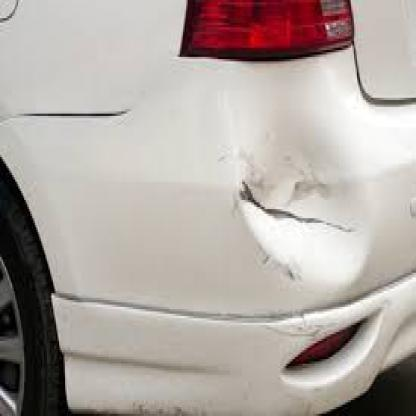dent: (229, 121, 373, 294)
